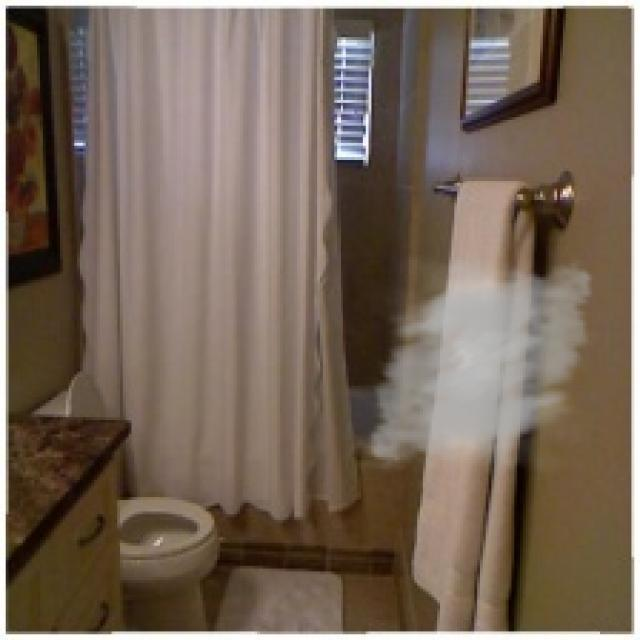Smoke: (360, 248, 603, 486)
